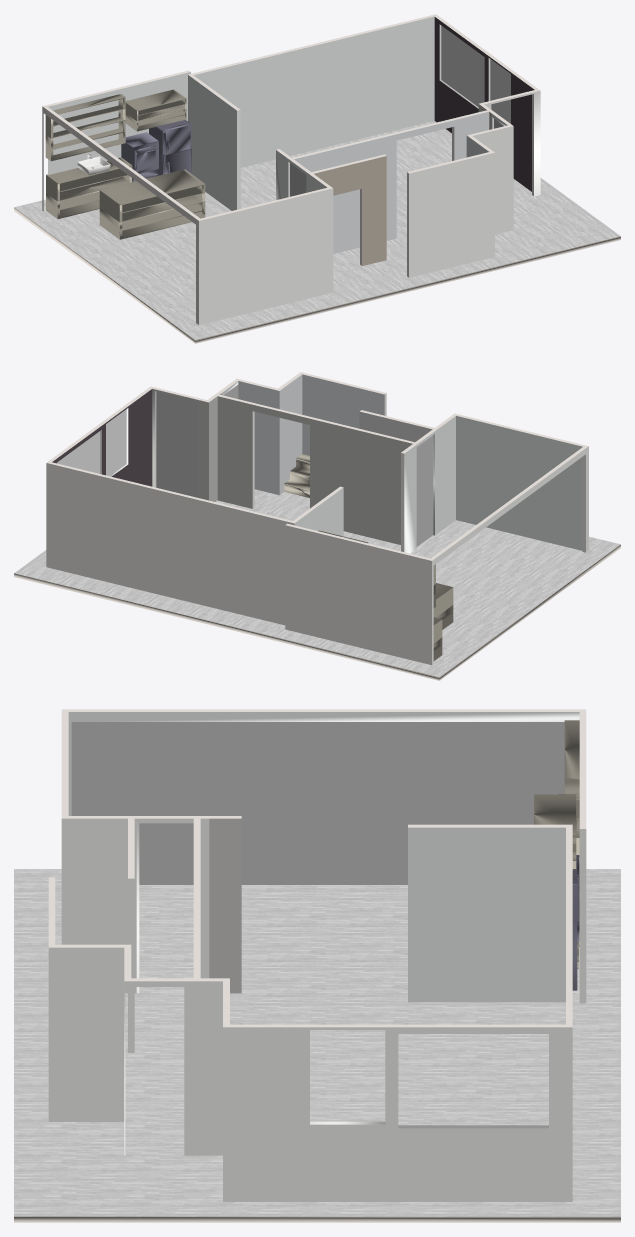
The model's file is finalscene.glb.
The picture shows the model from 3 angles, top to bottom: view 1: azimuth 30°, elevation 25°; view 2: azimuth 150°, elevation 25°; view 3: azimuth 270°, elevation 25°; orthographic projection. The views are drawn at different scales.
Parts seen in each view (by area): view 1: MDL_OBJ_textured_0_83, MDL_OBJ_textured_0_76, MDL_OBJ_textured_0_29, MDL_OBJ_textured_0_55, MDL_OBJ_textured_0_65, MDL_OBJ_textured_0_3, MDL_OBJ_textured_0_69, MDL_OBJ_textured_0_40, MDL_OBJ_textured_0_72, MDL_OBJ_textured_0_51, MDL_OBJ_textured_0_19, MDL_OBJ_textured_0_84 (+14 smaller); view 2: MDL_OBJ_textured_0_77, MDL_OBJ_textured_0_83, MDL_OBJ_textured_0_73, MDL_OBJ_textured_0_64, MDL_OBJ_textured_0_28, MDL_OBJ_textured_0_26, MDL_OBJ_textured_0_44, MDL_OBJ_textured_0_54, MDL_OBJ_textured_0_61, MDL_OBJ_textured_0_40, MDL_OBJ_textured_0_84, MDL_OBJ_textured_0_58 (+15 smaller); view 3: MDL_OBJ_textured_0_83, MDL_OBJ_textured_0_24, MDL_OBJ_textured_0_41, MDL_OBJ_textured_0_68, MDL_OBJ_textured_0_59, MDL_OBJ_textured_0_46, MDL_OBJ_textured_0_33, MDL_OBJ_textured_0_45, MDL_OBJ_textured_0_79, MDL_OBJ_textured_0_84, MDL_OBJ_textured_0_47, MDL_OBJ_textured_0_81 (+11 smaller).
Boxes of the visible parts, x1,y1,x2,y2 form: MDL_OBJ_textured_0_83: (14, 121, 620, 339); MDL_OBJ_textured_0_76: (194, 16, 434, 167); MDL_OBJ_textured_0_29: (199, 188, 333, 325); MDL_OBJ_textured_0_55: (409, 152, 494, 277); MDL_OBJ_textured_0_65: (294, 112, 489, 253); MDL_OBJ_textured_0_3: (99, 169, 205, 239); MDL_OBJ_textured_0_69: (188, 75, 236, 210); MDL_OBJ_textured_0_40: (434, 17, 534, 191); MDL_OBJ_textured_0_72: (48, 72, 190, 174); MDL_OBJ_textured_0_51: (314, 156, 386, 265); MDL_OBJ_textured_0_19: (46, 157, 132, 219); MDL_OBJ_textured_0_84: (14, 207, 620, 343); MDL_OBJ_textured_0_77: (46, 463, 294, 625); MDL_OBJ_textured_0_83: (14, 489, 620, 676); MDL_OBJ_textured_0_73: (285, 525, 431, 664); MDL_OBJ_textured_0_64: (217, 396, 412, 544); MDL_OBJ_textured_0_28: (456, 416, 582, 550); MDL_OBJ_textured_0_26: (156, 391, 197, 497); MDL_OBJ_textured_0_44: (404, 416, 455, 553); MDL_OBJ_textured_0_54: (302, 374, 384, 455); MDL_OBJ_textured_0_61: (238, 381, 279, 495); MDL_OBJ_textured_0_40: (52, 389, 152, 486); MDL_OBJ_textured_0_84: (14, 544, 620, 680); MDL_OBJ_textured_0_58: (279, 374, 302, 494); MDL_OBJ_textured_0_83: (14, 869, 620, 1216); MDL_OBJ_textured_0_24: (71, 722, 564, 884); MDL_OBJ_textured_0_41: (223, 1027, 572, 1201); MDL_OBJ_textured_0_68: (408, 827, 565, 1002); MDL_OBJ_textured_0_59: (48, 947, 124, 1121); MDL_OBJ_textured_0_46: (61, 818, 136, 993); MDL_OBJ_textured_0_33: (124, 981, 222, 1155); MDL_OBJ_textured_0_45: (209, 818, 241, 993); MDL_OBJ_textured_0_79: (68, 712, 579, 815); MDL_OBJ_textured_0_84: (14, 1216, 620, 1222); MDL_OBJ_textured_0_47: (136, 818, 209, 993); MDL_OBJ_textured_0_81: (62, 709, 585, 711).
Bounding box in the file's own units: 11.89 × 2.89 × 8.78.
Materials: 73 (1 with a texture image).
